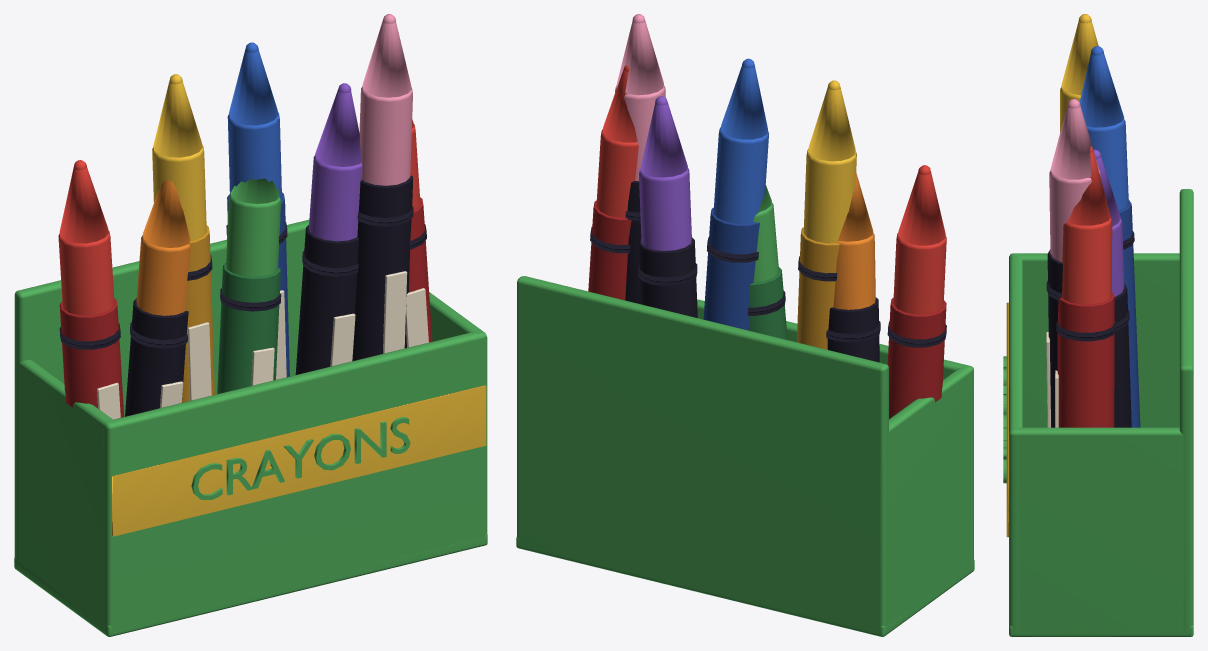
File: toy_crayon_box.glb
3 views of the same model, side by side, from view 1: azimuth 30°, elevation 25°; view 2: azimuth 150°, elevation 25°; view 3: azimuth 270°, elevation 25° (orthographic). The views are drawn at different scales.
Visible parts, largest first — view 1: toy_crayon_box; view 2: toy_crayon_box; view 3: toy_crayon_box.
Part boxes in pixels (x1,y1,x2,y2): toy_crayon_box: (14, 14, 487, 636); toy_crayon_box: (516, 14, 974, 636); toy_crayon_box: (1003, 14, 1193, 636).
Size of the model in its own units: 6.1 by 7.87 by 2.68.
